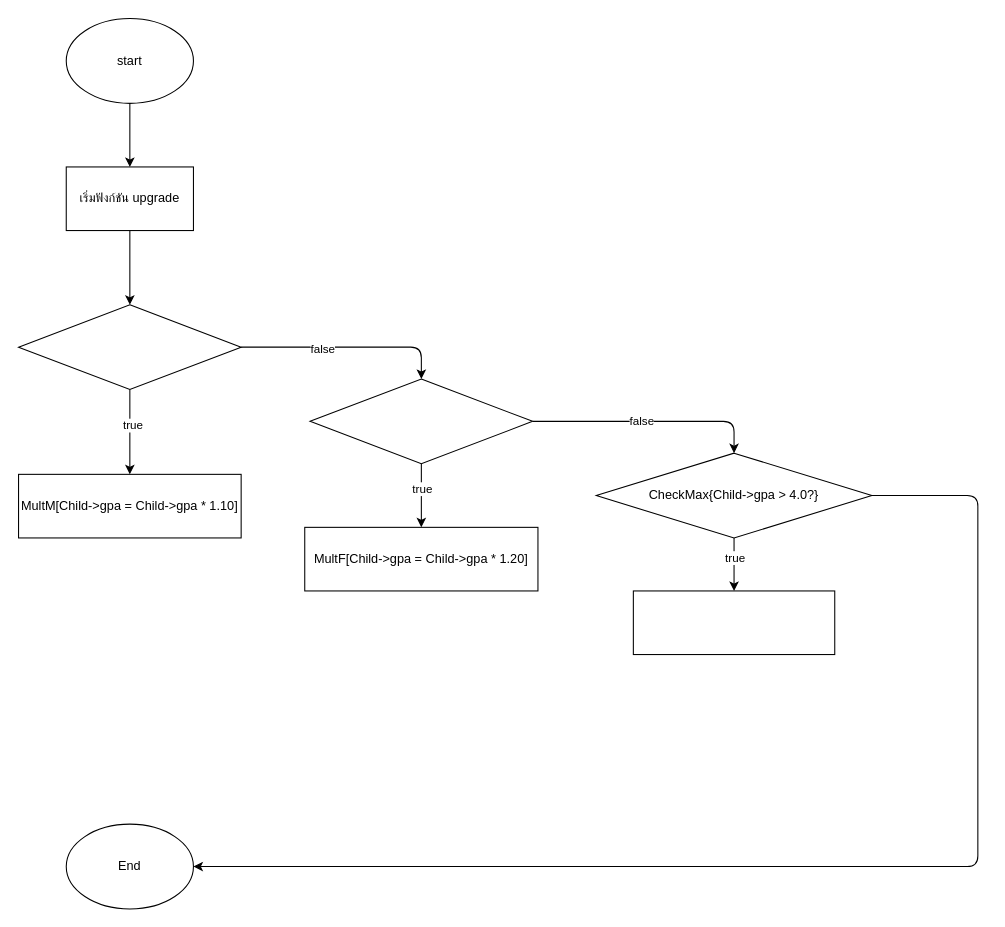
Some shapes in this 1005 by 927 pixel diagram are drawn without their labels. The centre of each missing label's shape, as x and y in pixels:
CapGPA[Child->gpa = 4.0]: the point at 733,622
CheckF{Child->sex == 'F'?: the point at 421,421
CheckSex{Child->sex == 'M'?: the point at 129,347
